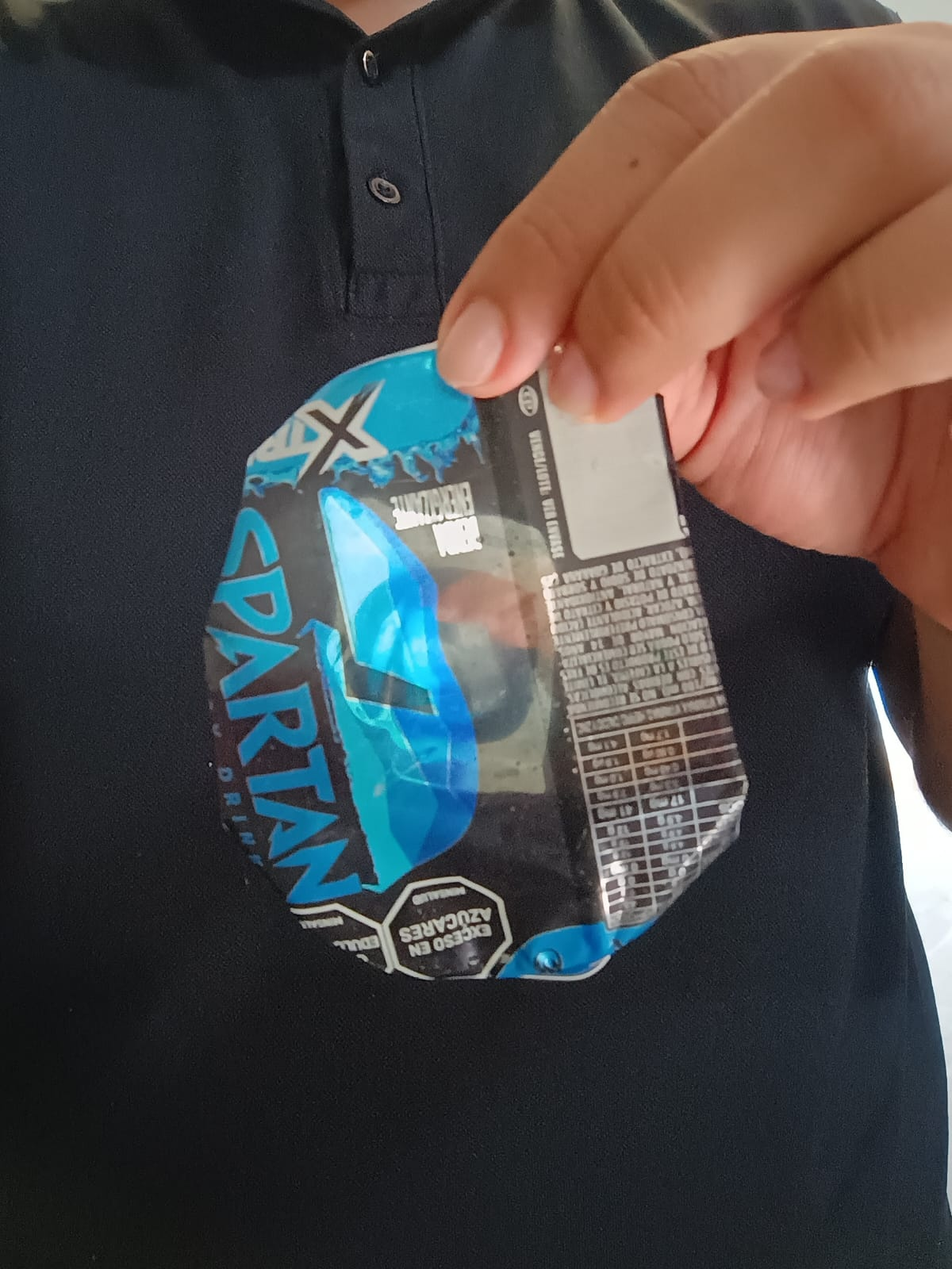Metal: (202, 347, 747, 984)
